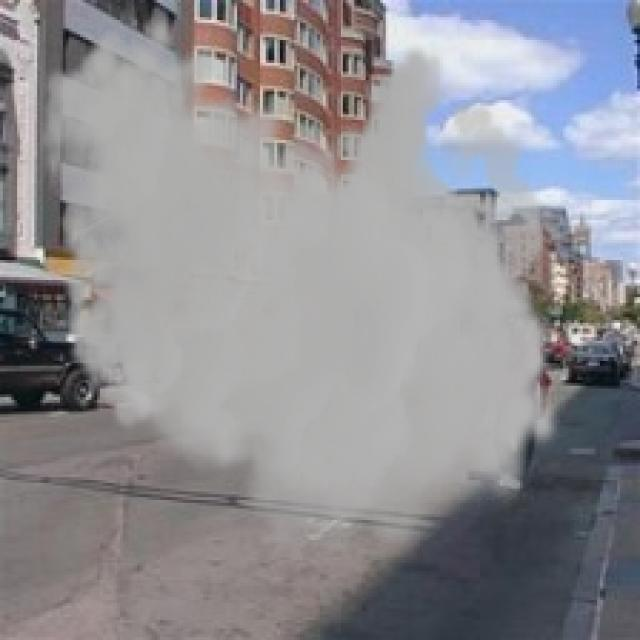Smoke: (37, 9, 563, 578)
